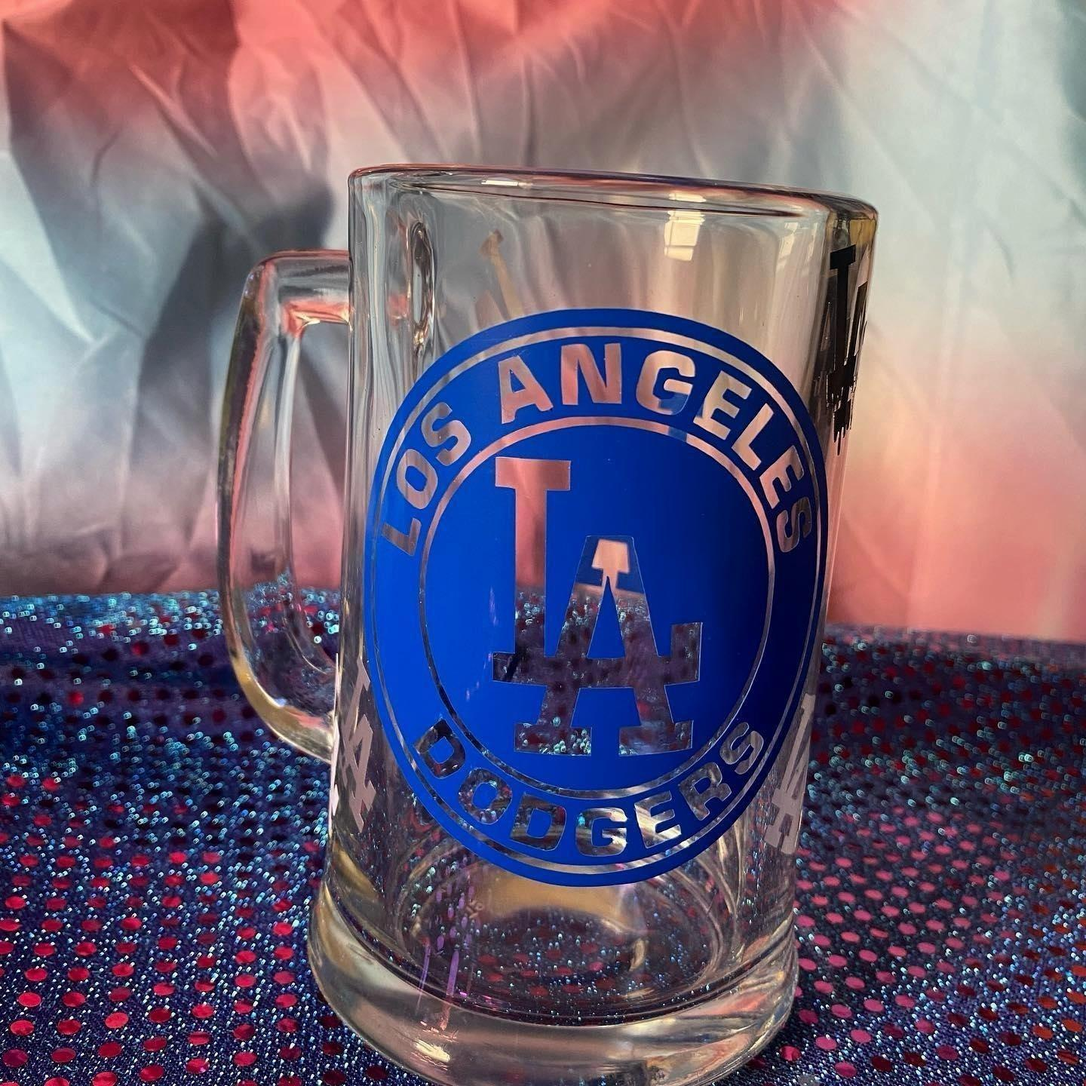glass-mug: (194, 144, 891, 1086)
